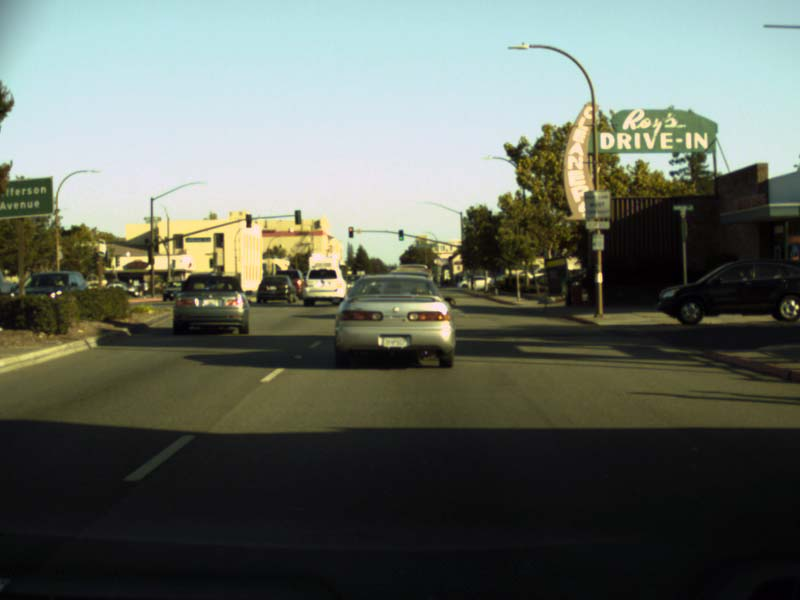Green: (398, 229, 403, 240)
Red: (348, 227, 353, 236)
